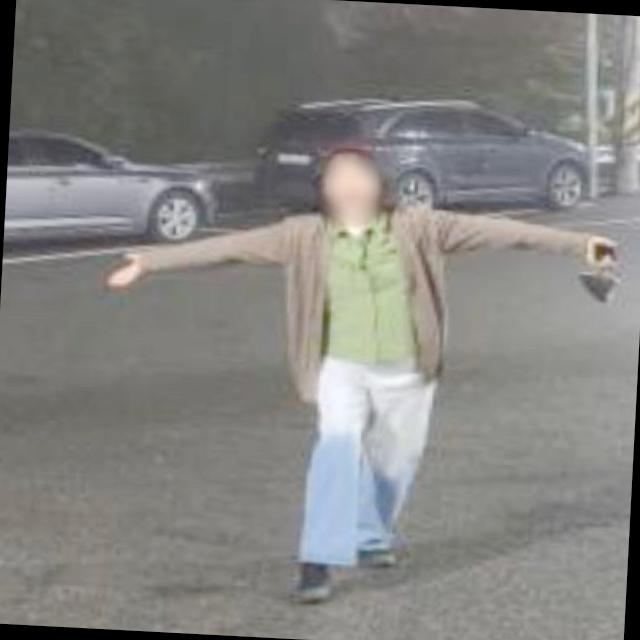cardigan: (131, 192, 588, 404)
denimpants: (302, 350, 436, 568)
